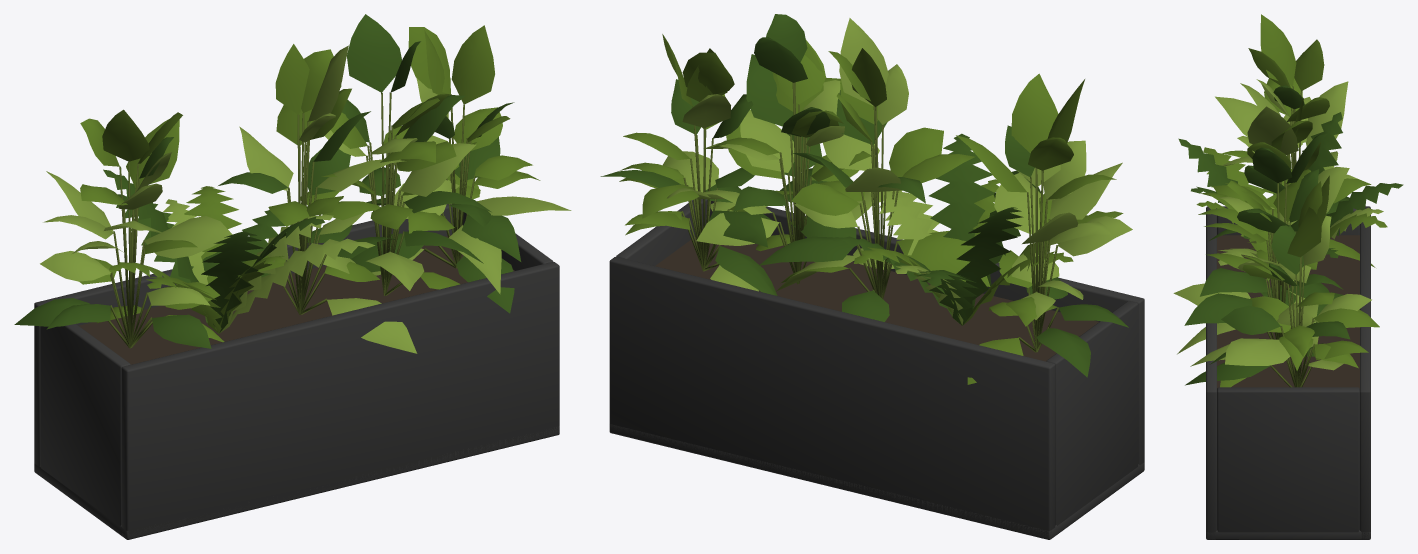
The model's file is greenery.planter-box-low.glb.
The picture shows the model from 3 angles, left to right: view 1: azimuth 30°, elevation 25°; view 2: azimuth 150°, elevation 25°; view 3: azimuth 270°, elevation 25°; orthographic projection. The views are drawn at different scales.
Parts seen in each view (by area): view 1: greenery.planter-box-low.001; view 2: greenery.planter-box-low.001; view 3: greenery.planter-box-low.001.
Boxes of the visible parts, bbox=[...] form: greenery.planter-box-low.001: bbox=[14, 14, 571, 539]; greenery.planter-box-low.001: bbox=[600, 14, 1144, 539]; greenery.planter-box-low.001: bbox=[1173, 14, 1403, 539].
Size of the model in its own units: 0.92 by 0.72 by 0.42.
